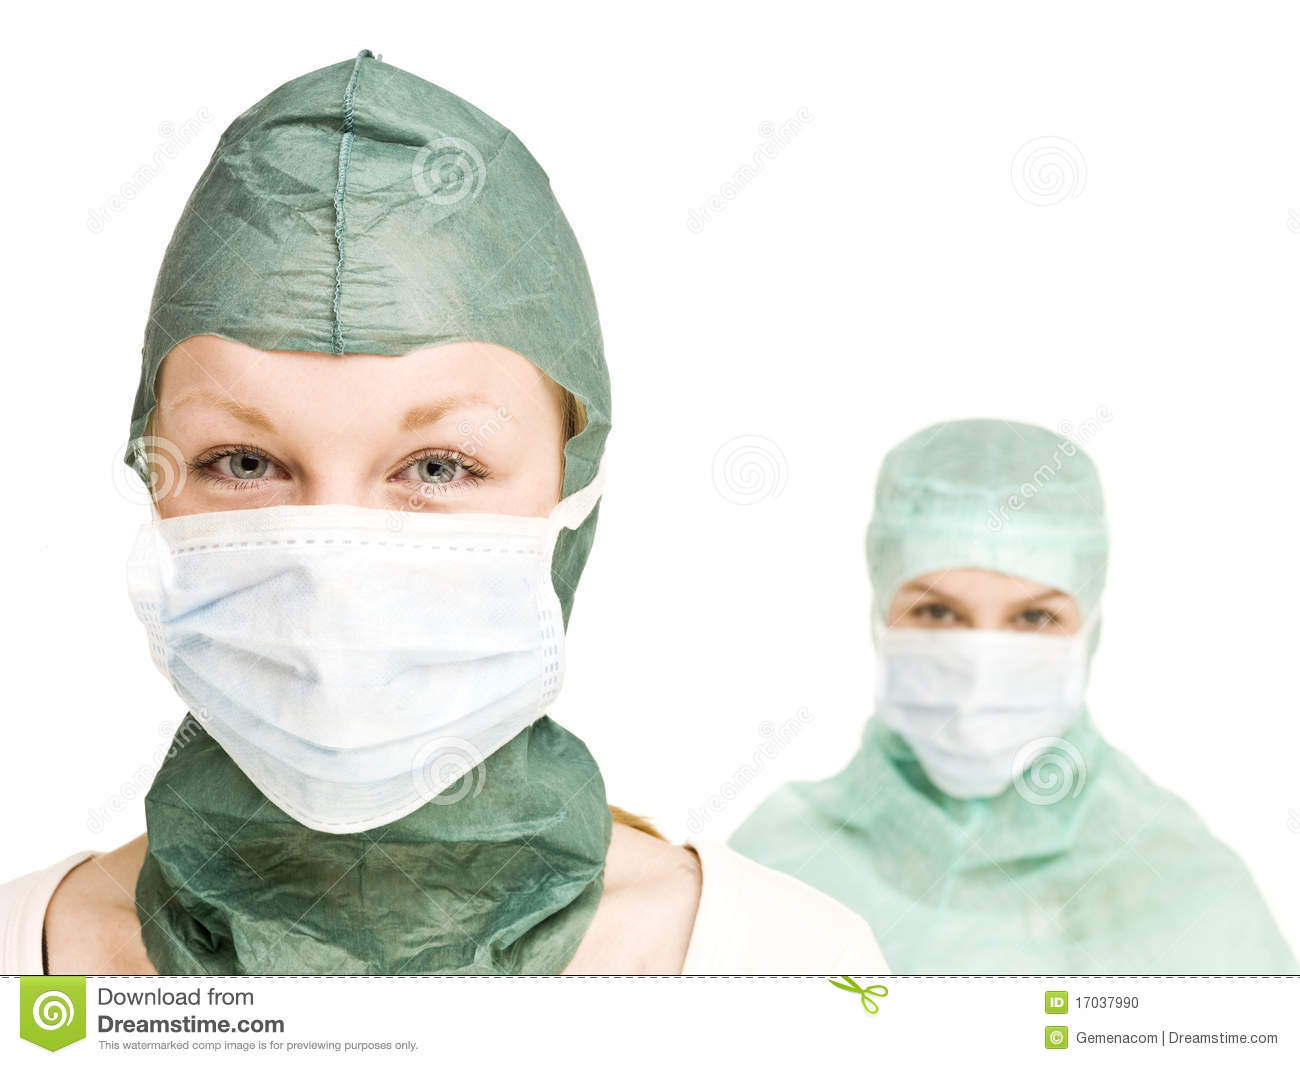mask: (130, 498, 588, 847), (868, 593, 1099, 811)
